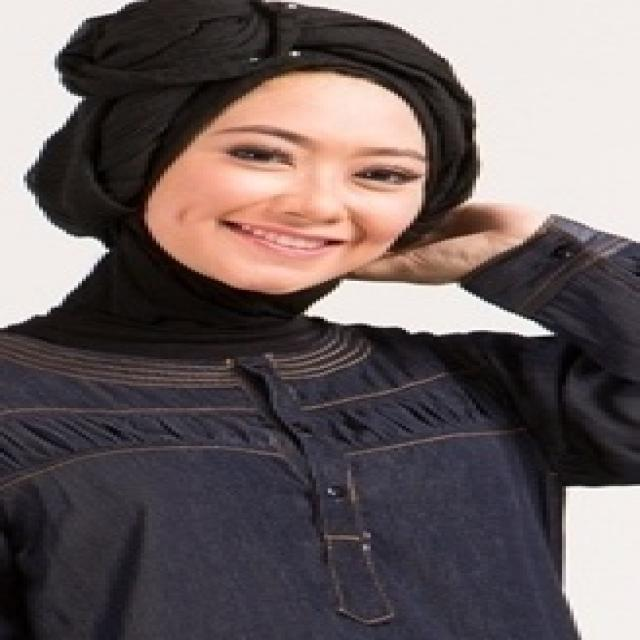head: (97, 10, 492, 311)
